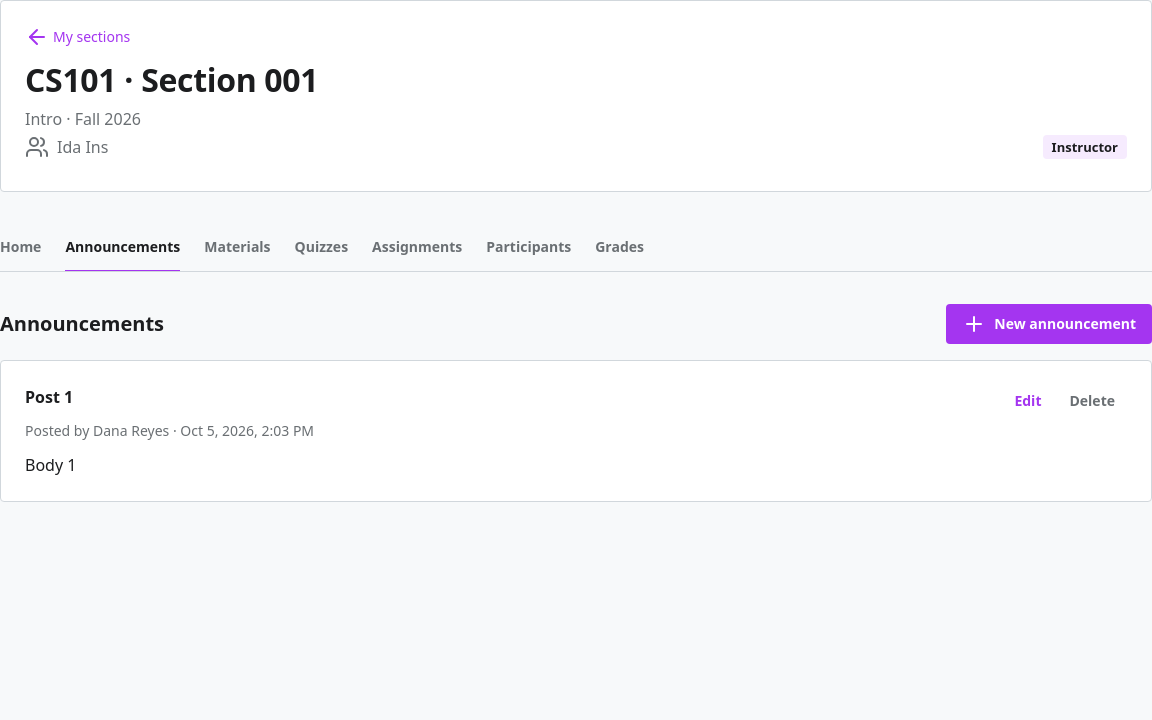
edits changed fields only, without the email box
The width and height of the screenshot is (1152, 720).
Click the button with aria-label "Edit Post 1" at (1028, 401), box [1002, 385, 1054, 417]
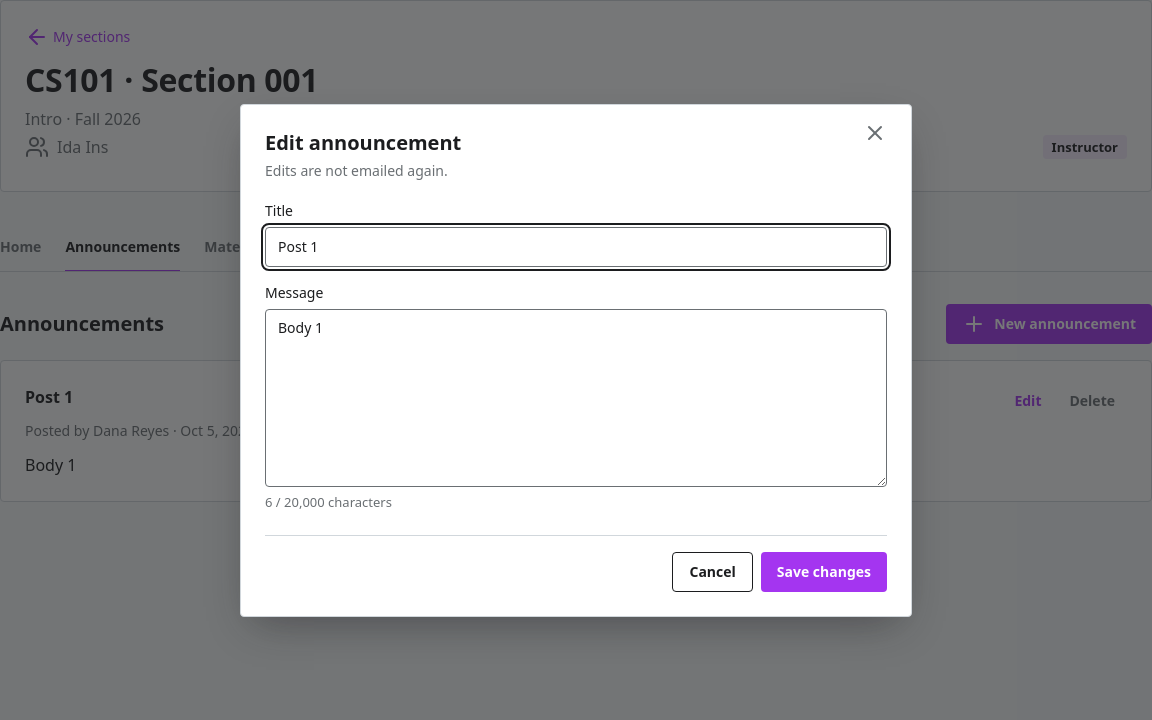
Check: the text "Edits are not emailed again." is shown, box [265, 160, 448, 180]
Replace the text in the text box labelled "Message" with "Changed" at (576, 398), box [265, 308, 887, 486]
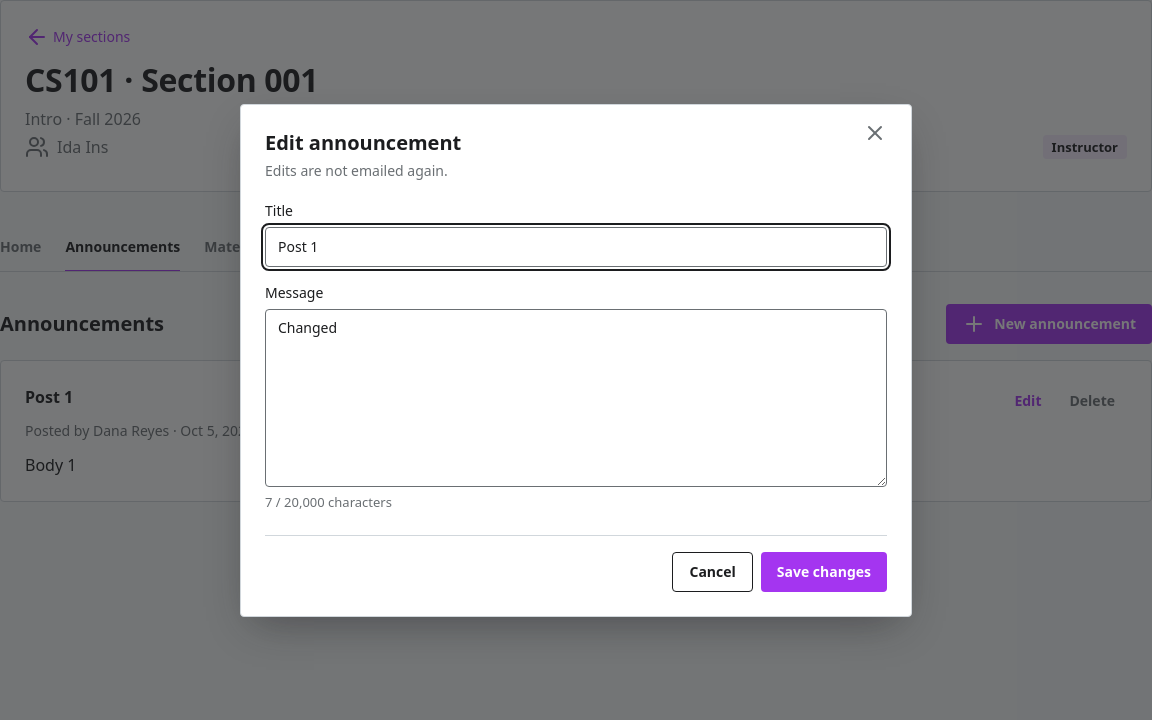
Click the button "Save changes" at (824, 572), box [761, 552, 887, 592]
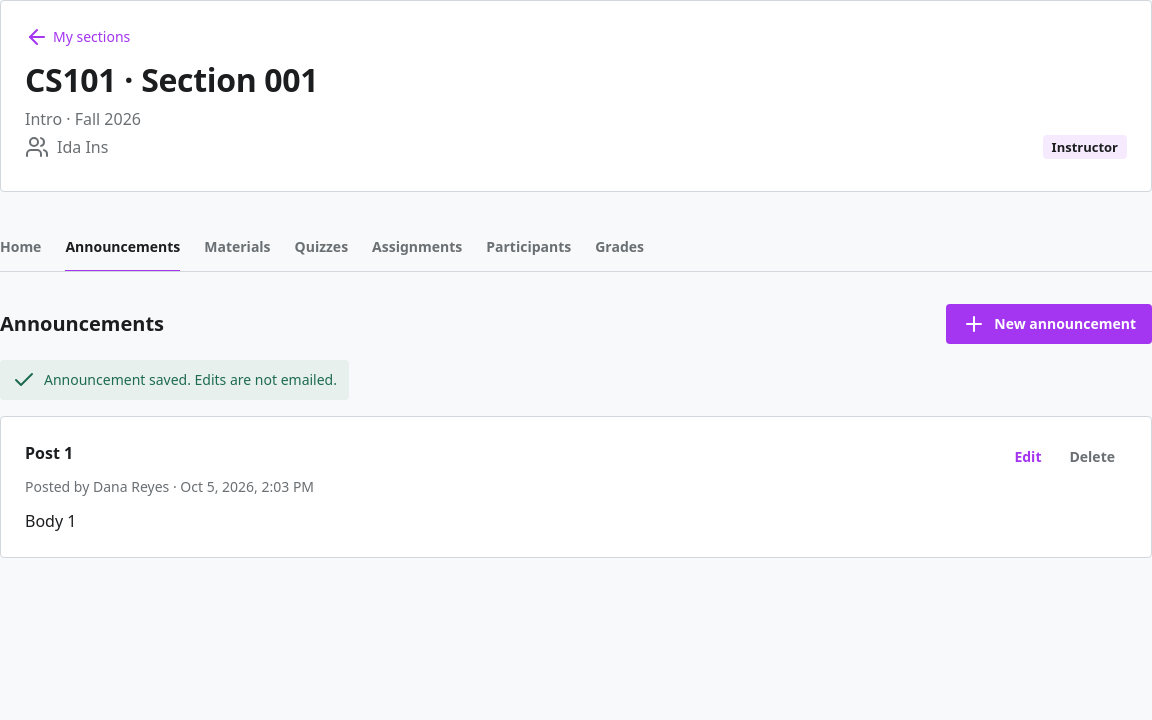
Check: the message reads "Announcement saved. Edits are not emailed.", box [44, 370, 337, 389]
